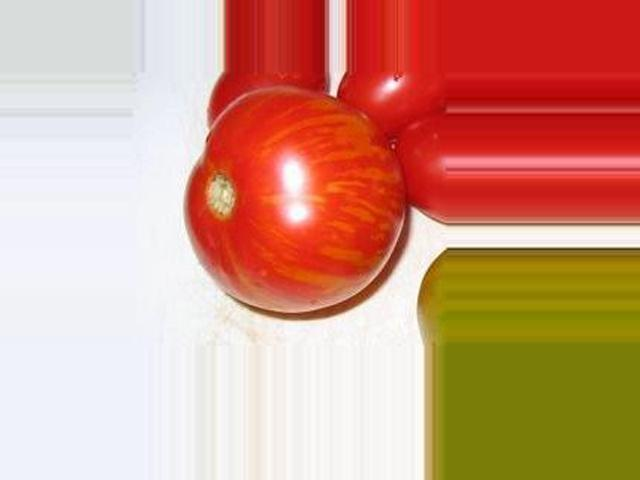tomato: (181, 85, 407, 313)
